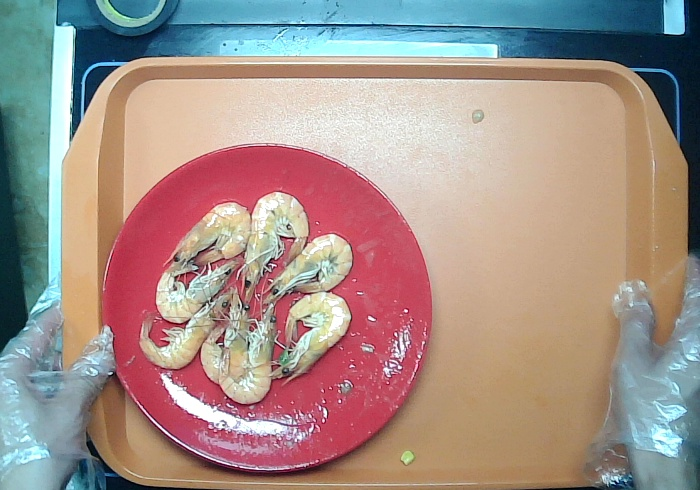HZYJPL-Hong_Se_Yuan_Pan: (100, 141, 434, 477)
